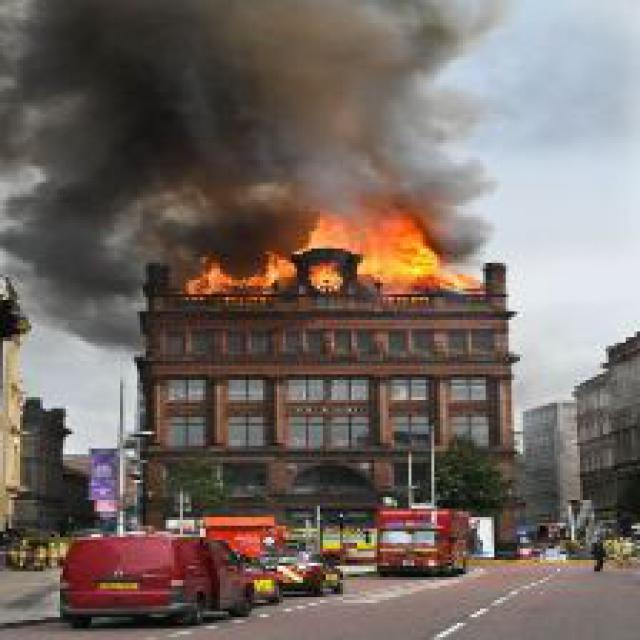fire: (168, 148, 468, 306)
